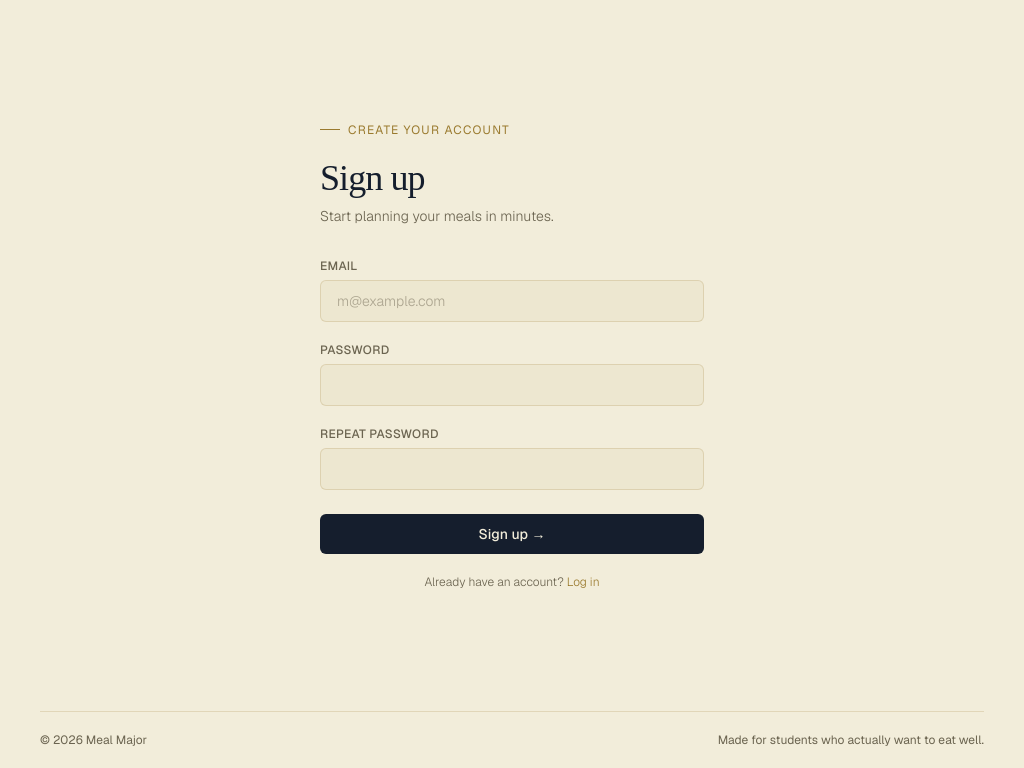
SignUpForm › shows loading state while submitting
Type "test@example.com" into the field labelled "Email" at (512, 300), box [320, 280, 704, 322]
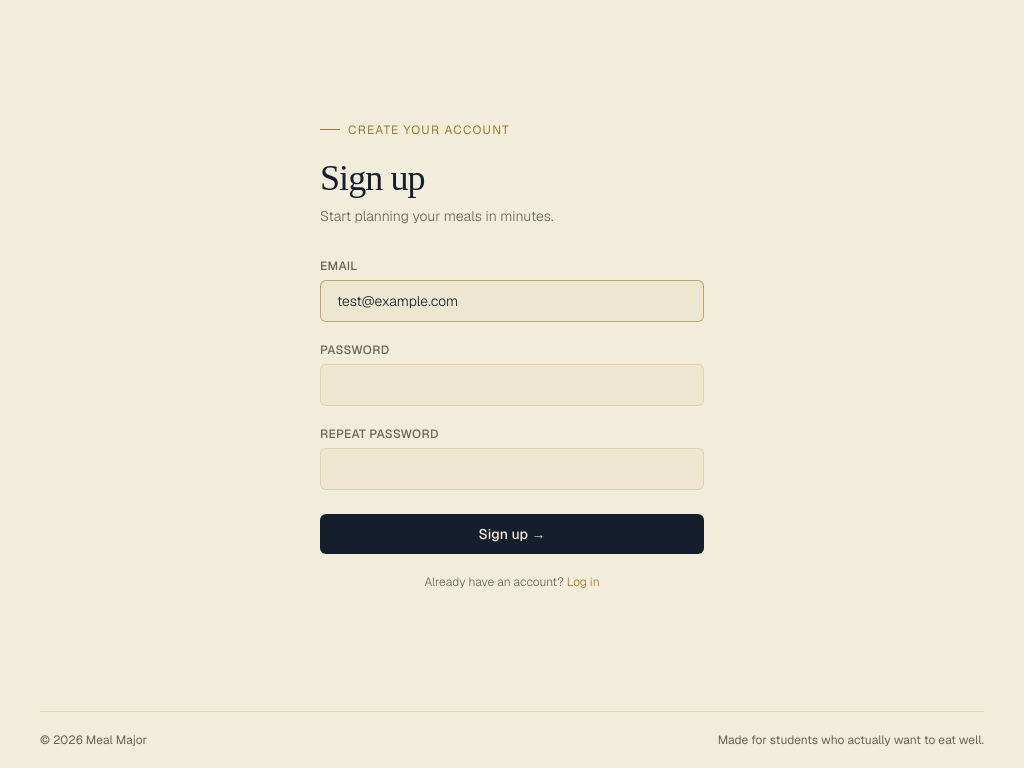
Type "password123" into the password field labelled "Password" at (512, 384), box [320, 364, 704, 406]
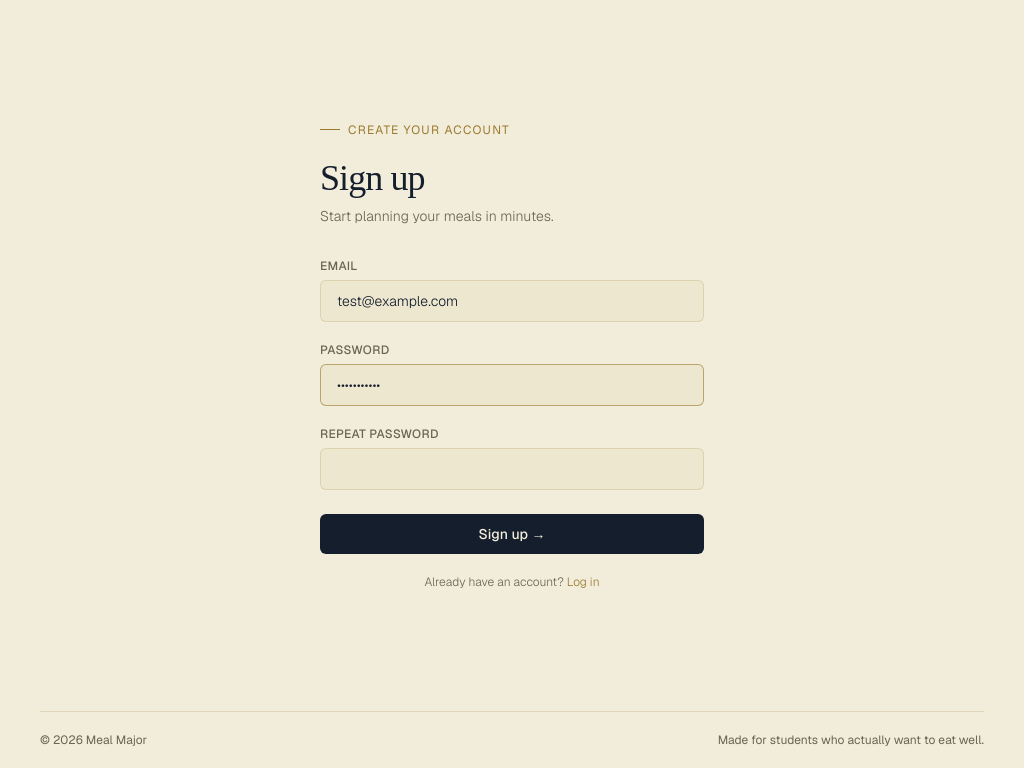
Type "password123" into the password field labelled "Repeat Password" at (512, 468), box [320, 448, 704, 490]
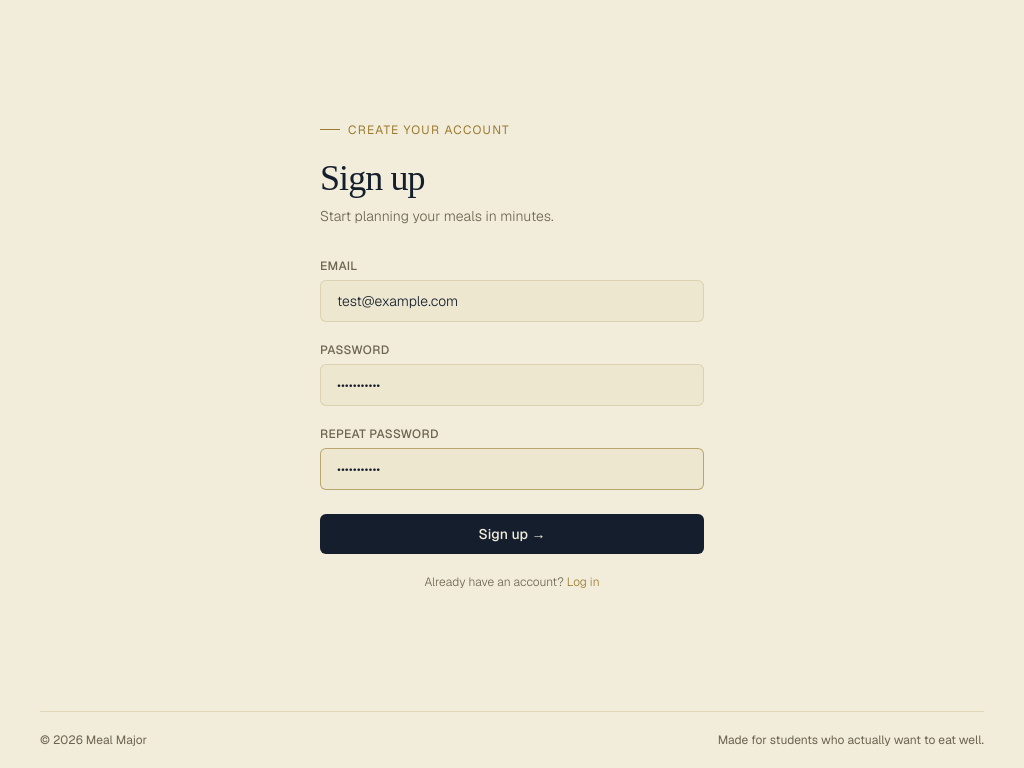
Click the button "Sign up →" at (512, 534), box [320, 514, 704, 554]
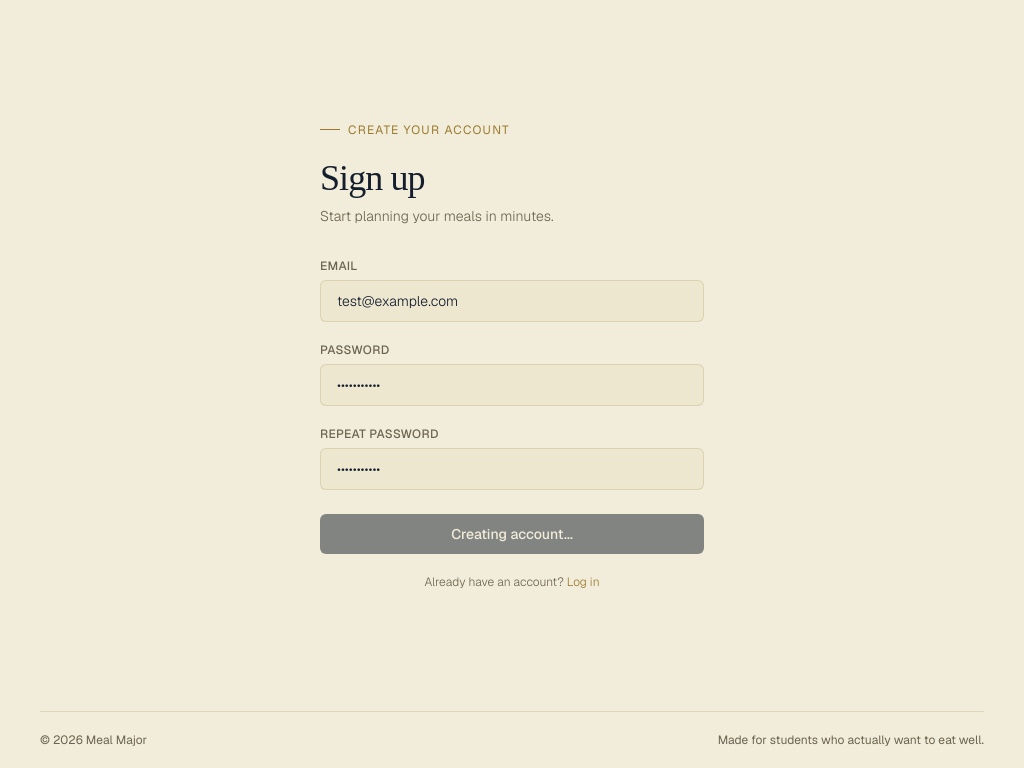
Expected: the button "Creating account..." is disabled, [320, 514, 704, 554]
